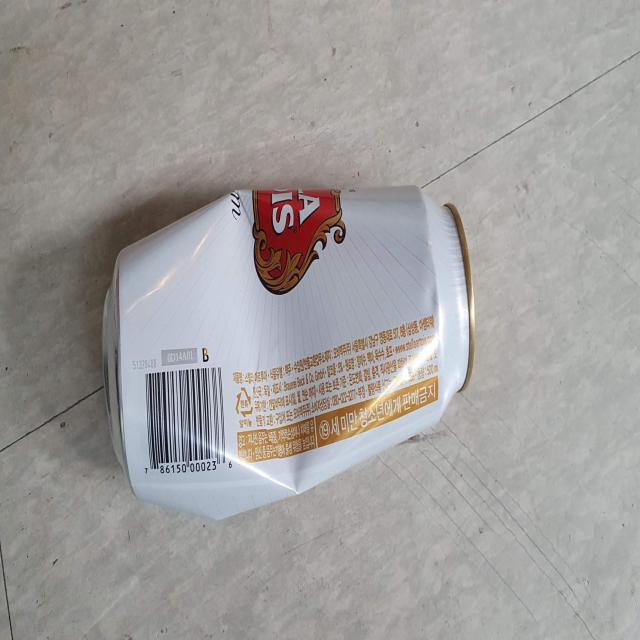can: (102, 185, 476, 520)
